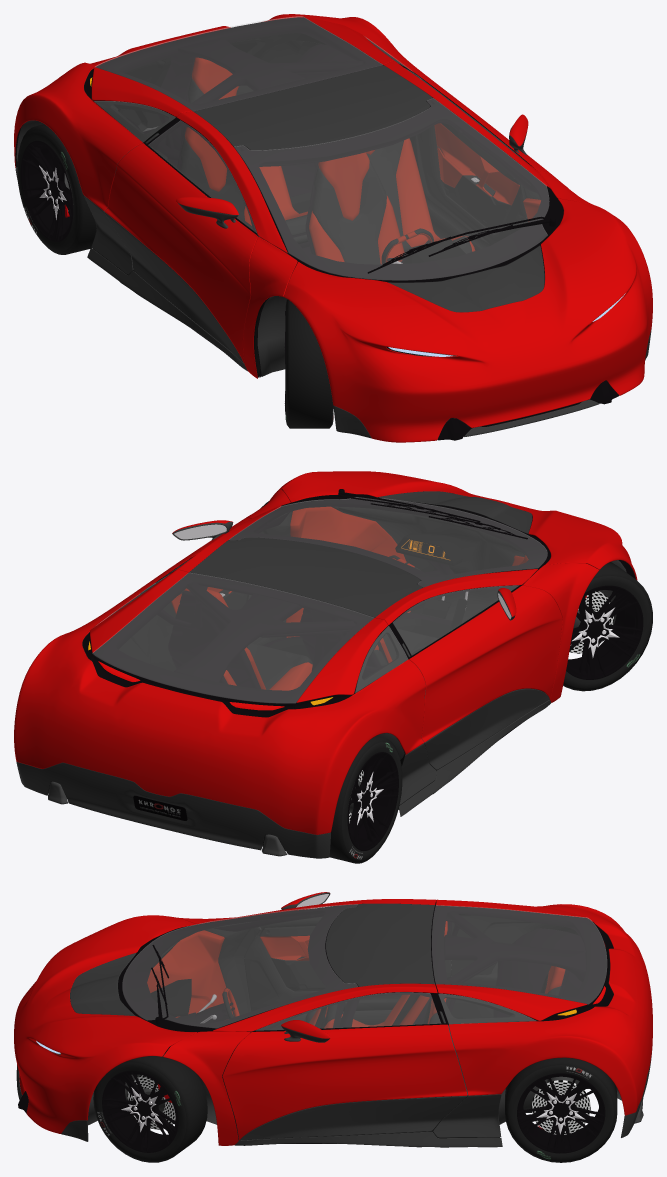
Rendered from CarConcept.glb.
3 views of the same model, one above another, from view 1: azimuth 30°, elevation 25°; view 2: azimuth 150°, elevation 25°; view 3: azimuth 270°, elevation 25° (orthographic). The views are drawn at different scales.
Parts seen in each view (by area): view 1: BodyHood, BodyWindshield, BodyRearwindow, BodyDoorRColor1, BodyRearPanelsColor1, BodyRoofPanel, BodyWindshieldGasket, InteriorSeatsColor1, InteriorSeatsColor2, BodyPillars, InteriorPillar, InteriorRearHatch (+21 smaller); view 2: BodyRearPanelsColor1, BodyRearwindow, BodyWindshield, BodyDoorRColor1, BodyPanelsColor2, BodyRoofPanel, BodyHood, InteriorRearHatch, BodyPillars, InteriorPillar, BodyWindshieldGasket, InteriorDashMid (+22 smaller); view 3: BodyRearPanelsColor1, BodyWindshield, BodyDoorLColor1, BodyHood, BodyRearwindow, BodyRoofPanel, BodyPillars, BodyWindshieldGasket, BodyDoorLColor2, BodyPanelsColor2, WheelFrontL, InteriorRearHatch (+25 smaller).
Part boxes in pixels (x1,y1,x2,y2): BodyHood: (283,198,652,442); BodyWindshield: (234,98,549,280); BodyRearwindow: (95,16,382,110); BodyDoorRColor1: (104,143,257,362); BodyRearPanelsColor1: (14,14,428,210); BodyRoofPanel: (193,65,432,150); BodyWindshieldGasket: (234,99,563,282); InteriorSeatsColor1: (185,57,475,264); InteriorSeatsColor2: (180,78,472,264); BodyPillars: (176,61,598,378); InteriorPillar: (158,37,434,168); InteriorRearHatch: (93,17,383,117); BodyRearPanelsColor1: (14,569,425,834); BodyRearwindow: (92,573,373,703); BodyWindshield: (229,497,547,587); BodyDoorRColor1: (409,585,562,742); BodyPanelsColor2: (16,700,550,858); BodyRoofPanel: (189,537,422,617); BodyHood: (279,471,637,580); InteriorRearHatch: (93,573,386,707); BodyPillars: (175,489,599,702); InteriorPillar: (174,574,417,682); BodyWindshieldGasket: (230,497,550,587); InteriorDashMid: (331,502,528,622); BodyRearPanelsColor1: (436,899,652,1115); BodyWindshield: (122,904,357,1028); BodyDoorLColor1: (222,1024,467,1139); BodyHood: (14,915,196,1133); BodyRearwindow: (432,905,606,1003); BodyRoofPanel: (326,903,434,986); BodyPillars: (163,899,437,1145); BodyWindshieldGasket: (118,905,357,1032); BodyDoorLColor2: (240,1096,467,1140); BodyPanelsColor2: (16,1050,652,1147); WheelFrontL: (93,1054,207,1162); InteriorRearHatch: (431,905,606,1020).
Size of the model in its own units: 2.54 by 1.15 by 4.36.
Materials: 23 (6 with a texture image).
